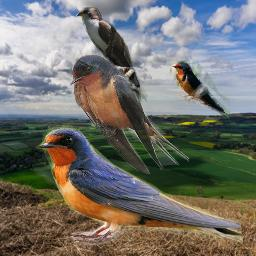Cuckoo: (76, 7, 149, 103)
Swallow: (35, 124, 243, 250), (69, 53, 189, 174), (170, 60, 230, 119)
